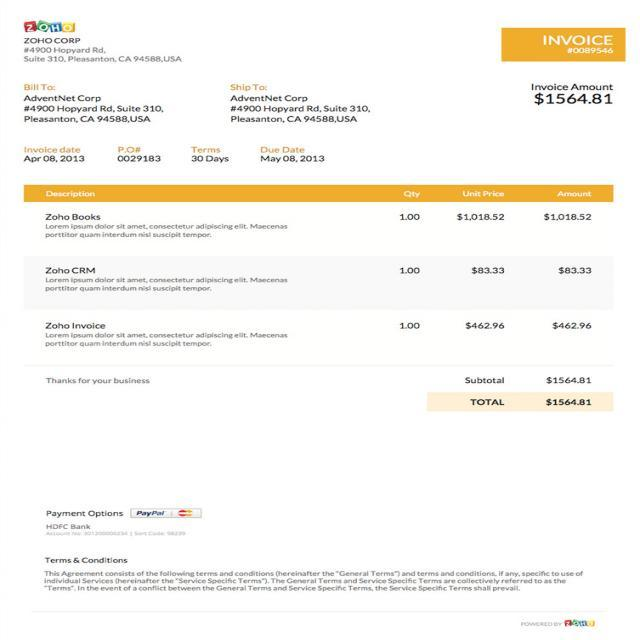customer_address: (227, 101, 372, 127), (21, 102, 164, 126)
customer_name: (230, 92, 369, 104), (21, 93, 103, 104)
due_date: (258, 153, 331, 165)
invoice_date: (20, 153, 90, 166)
invoice_number: (565, 46, 615, 55)
invoice_subtotal: (542, 372, 594, 387)
invoice_total: (530, 91, 614, 108), (540, 394, 595, 407)
item_description: (39, 210, 304, 351)
item_quantity: (390, 205, 426, 340)
item_total_price: (540, 207, 597, 340)
item_unit_price: (448, 205, 512, 343)
supplier_address: (20, 46, 184, 66)
supplier_name: (21, 35, 83, 44)
